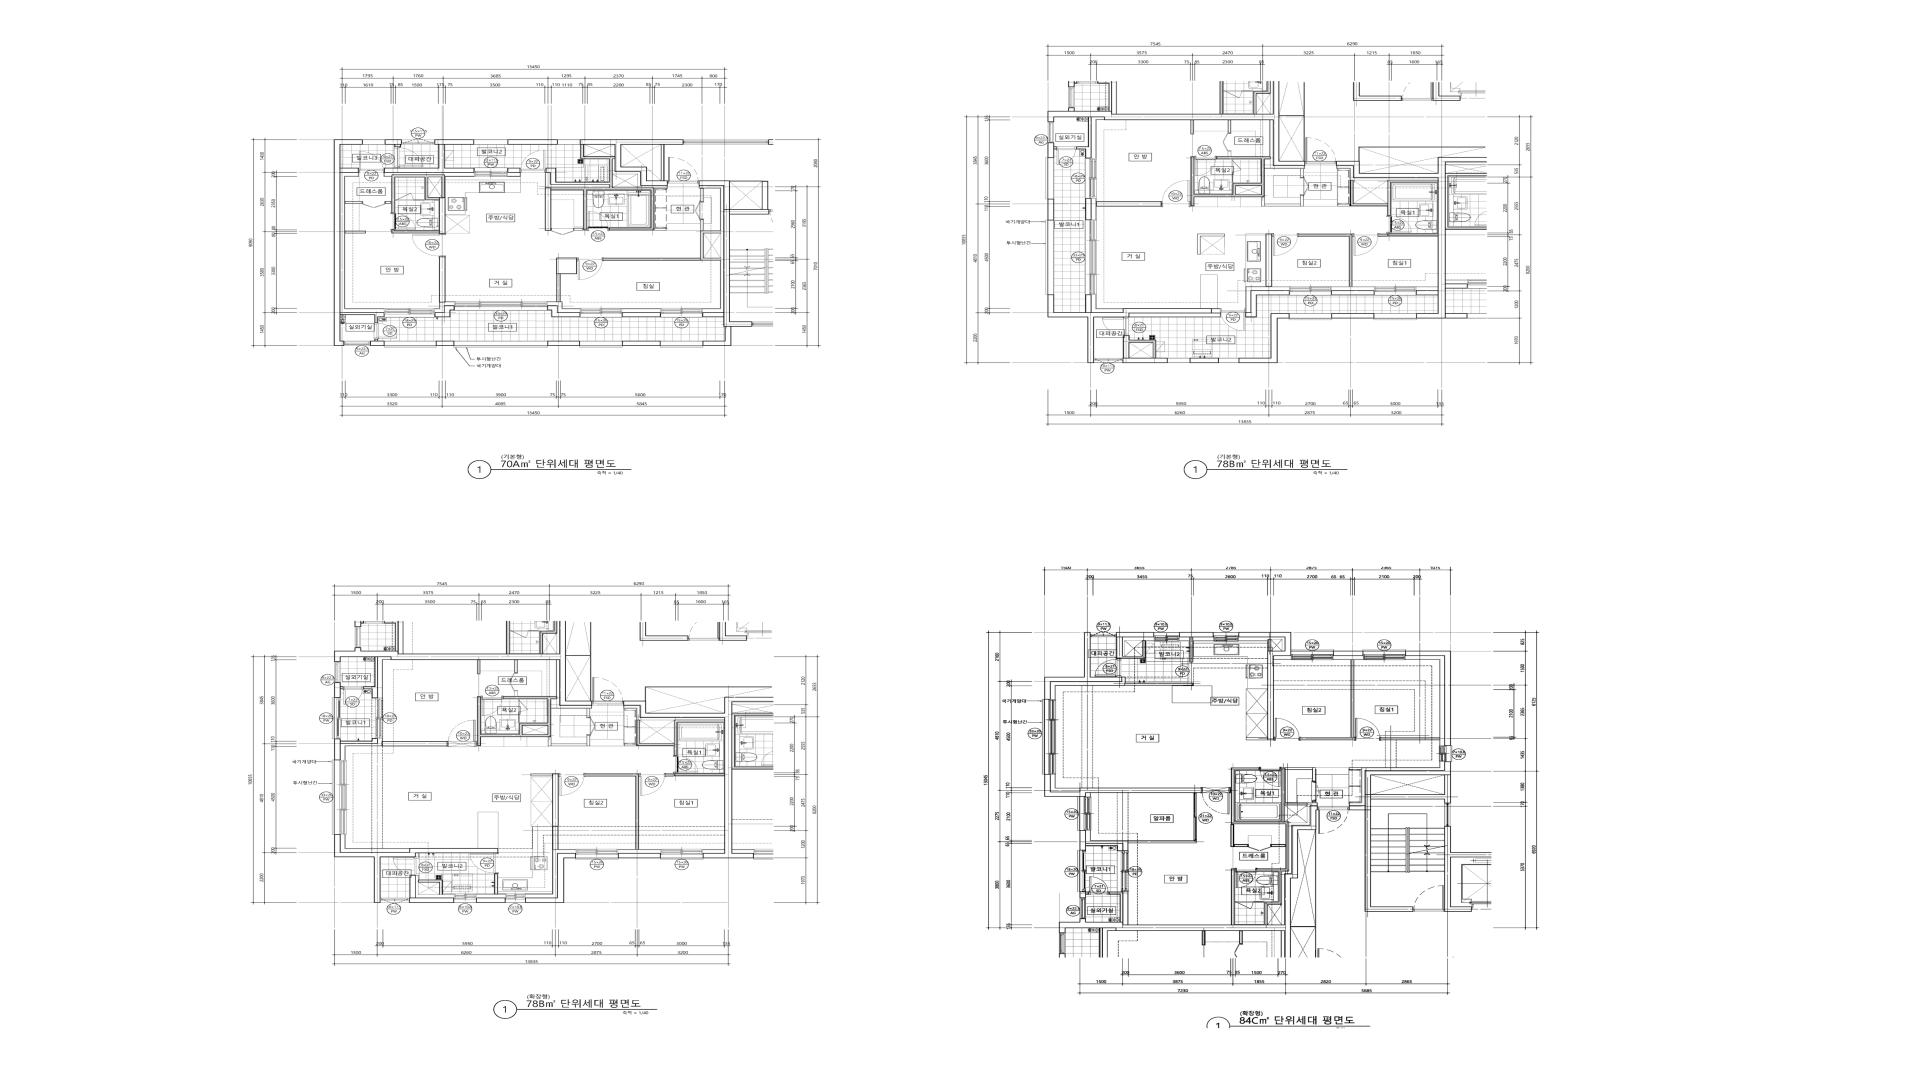door: (1317, 806, 1349, 833), (1201, 787, 1232, 815), (667, 157, 699, 183), (447, 720, 477, 746), (1305, 137, 1336, 164), (1414, 886, 1444, 913), (592, 678, 624, 703), (413, 233, 446, 257), (1162, 181, 1191, 207), (1352, 233, 1379, 256), (469, 853, 498, 874), (1274, 717, 1300, 740), (1354, 717, 1381, 740), (1220, 309, 1246, 331), (1273, 233, 1299, 256), (520, 150, 546, 173), (394, 148, 423, 167), (576, 258, 603, 280), (638, 774, 665, 795), (558, 774, 584, 795), (359, 152, 384, 173), (393, 857, 419, 876), (1095, 659, 1121, 676), (1102, 318, 1129, 335), (1259, 767, 1282, 787), (480, 696, 502, 716), (587, 211, 609, 231), (674, 756, 698, 774), (1234, 869, 1257, 887), (1387, 216, 1411, 233), (1088, 877, 1109, 895), (1195, 157, 1216, 175), (392, 214, 415, 229), (375, 323, 397, 339), (343, 687, 363, 704), (1193, 793, 1197, 840), (695, 200, 704, 220), (1312, 781, 1320, 803), (509, 673, 518, 691), (1249, 844, 1271, 851), (551, 228, 574, 235), (363, 202, 385, 208), (1234, 902, 1253, 910), (1224, 133, 1232, 152), (587, 717, 595, 736), (1300, 178, 1308, 195), (396, 193, 413, 200), (1091, 632, 1116, 637), (518, 699, 527, 712), (1232, 160, 1241, 171)
wall: (1059, 806, 1317, 957), (1047, 82, 1305, 166), (334, 621, 592, 705), (1336, 157, 1445, 319), (624, 698, 732, 858), (1349, 762, 1451, 913), (1232, 767, 1317, 924), (1047, 294, 1220, 363), (699, 181, 769, 345), (334, 835, 498, 903), (334, 140, 384, 345), (545, 145, 654, 231), (340, 173, 384, 313), (1238, 632, 1291, 740), (1044, 632, 1125, 699), (603, 220, 720, 261), (580, 140, 683, 186), (1300, 659, 1354, 740), (1406, 651, 1451, 746), (584, 774, 640, 849), (1444, 825, 1491, 913), (477, 696, 556, 746), (1191, 157, 1271, 206), (1044, 774, 1201, 796), (699, 186, 724, 313), (384, 140, 475, 173), (1299, 233, 1353, 286), (525, 853, 576, 903), (525, 849, 576, 898), (1238, 314, 1290, 363), (1291, 829, 1316, 927), (551, 659, 592, 717), (1265, 120, 1305, 178), (392, 174, 444, 214), (613, 160, 667, 187), (1336, 166, 1437, 181), (624, 705, 724, 720), (1371, 775, 1444, 795), (409, 876, 454, 903), (1246, 290, 1290, 318), (1124, 335, 1167, 363), (340, 835, 409, 852), (1246, 286, 1290, 313), (566, 655, 591, 700), (1116, 632, 1154, 658), (334, 738, 378, 761), (1080, 831, 1129, 851), (340, 738, 382, 761), (415, 876, 454, 898), (1122, 637, 1154, 657), (1197, 233, 1225, 255), (1092, 294, 1122, 313), (377, 657, 390, 698), (1262, 195, 1304, 207), (1092, 117, 1104, 158), (1109, 891, 1124, 922), (549, 736, 589, 746), (1232, 824, 1249, 848), (553, 774, 558, 849), (1129, 343, 1153, 359), (418, 880, 443, 894), (1129, 314, 1220, 318), (384, 173, 475, 177), (547, 306, 580, 316), (547, 302, 580, 313), (1096, 202, 1162, 207), (1266, 233, 1273, 286), (381, 741, 447, 746), (556, 257, 576, 274), (1179, 632, 1213, 641), (439, 257, 446, 302), (1129, 840, 1196, 844), (508, 140, 558, 145), (1333, 651, 1364, 659), (439, 198, 446, 233), (1269, 637, 1284, 651), (1332, 290, 1374, 295), (1332, 314, 1374, 319), (618, 853, 661, 858), (435, 306, 455, 316), (435, 302, 455, 313), (392, 229, 439, 233), (1125, 683, 1193, 686), (618, 849, 661, 853), (1332, 286, 1374, 290), (1381, 737, 1440, 740), (1189, 357, 1218, 363), (476, 898, 505, 903), (622, 309, 661, 313), (622, 342, 661, 345), (622, 313, 661, 316), (1085, 198, 1092, 220), (1232, 869, 1234, 924), (1047, 142, 1056, 158), (661, 145, 665, 181), (1047, 199, 1054, 220), (385, 140, 402, 148), (334, 683, 343, 698), (547, 342, 579, 345), (476, 894, 505, 898), (508, 167, 520, 177), (556, 274, 560, 302), (1189, 637, 1193, 662), (1092, 198, 1096, 220), (371, 339, 384, 345), (703, 849, 724, 853), (1416, 286, 1437, 290), (436, 342, 454, 345), (530, 774, 553, 777), (1246, 737, 1267, 740), (514, 659, 518, 673), (1228, 120, 1232, 133), (345, 231, 365, 233), (700, 189, 704, 202), (495, 874, 497, 894), (345, 202, 363, 204), (1080, 891, 1087, 898), (731, 181, 762, 182), (477, 659, 480, 674), (1191, 120, 1193, 135), (624, 744, 637, 746), (1349, 767, 1361, 770), (654, 228, 666, 231), (574, 228, 584, 231), (1228, 152, 1232, 157), (1337, 204, 1350, 206), (385, 202, 392, 204), (1253, 902, 1265, 903), (415, 853, 419, 857), (413, 199, 425, 200), (518, 712, 520, 723), (1232, 171, 1233, 182), (514, 691, 517, 696), (1087, 891, 1088, 894)
window: (1042, 699, 1056, 774), (332, 761, 347, 835), (1085, 220, 1096, 294), (455, 302, 547, 310), (454, 342, 547, 348), (1046, 220, 1054, 295), (384, 309, 435, 318), (1291, 649, 1335, 659), (1077, 796, 1091, 831), (1364, 649, 1406, 659), (661, 849, 703, 860), (576, 849, 618, 860), (1085, 158, 1096, 198), (1290, 286, 1332, 295), (1374, 286, 1416, 295), (661, 309, 703, 318), (580, 309, 622, 318), (1077, 851, 1087, 891), (384, 342, 436, 348), (1121, 851, 1129, 891), (1046, 158, 1054, 199), (332, 698, 340, 738), (475, 167, 508, 177), (579, 342, 622, 348), (1290, 314, 1332, 320), (1374, 314, 1416, 320), (661, 342, 703, 348), (376, 698, 382, 738), (1154, 632, 1179, 641), (1213, 632, 1238, 641), (402, 138, 434, 145), (454, 894, 476, 903), (380, 898, 409, 905), (1440, 746, 1452, 762), (505, 894, 525, 903), (473, 140, 508, 145), (1444, 803, 1451, 827), (1095, 359, 1124, 364), (1080, 898, 1087, 919), (334, 662, 340, 683), (1047, 123, 1054, 142), (1167, 357, 1189, 363), (363, 140, 385, 145), (558, 140, 580, 145), (1218, 357, 1238, 363), (344, 342, 371, 345)
